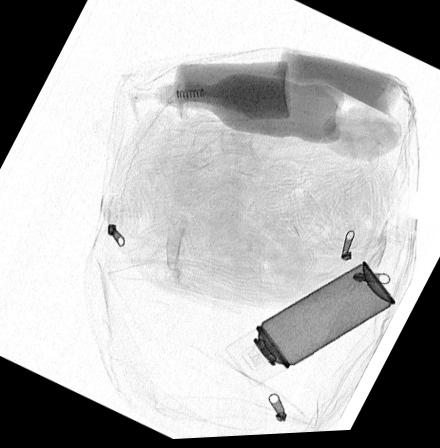Sprayer: (224, 266, 396, 391)
